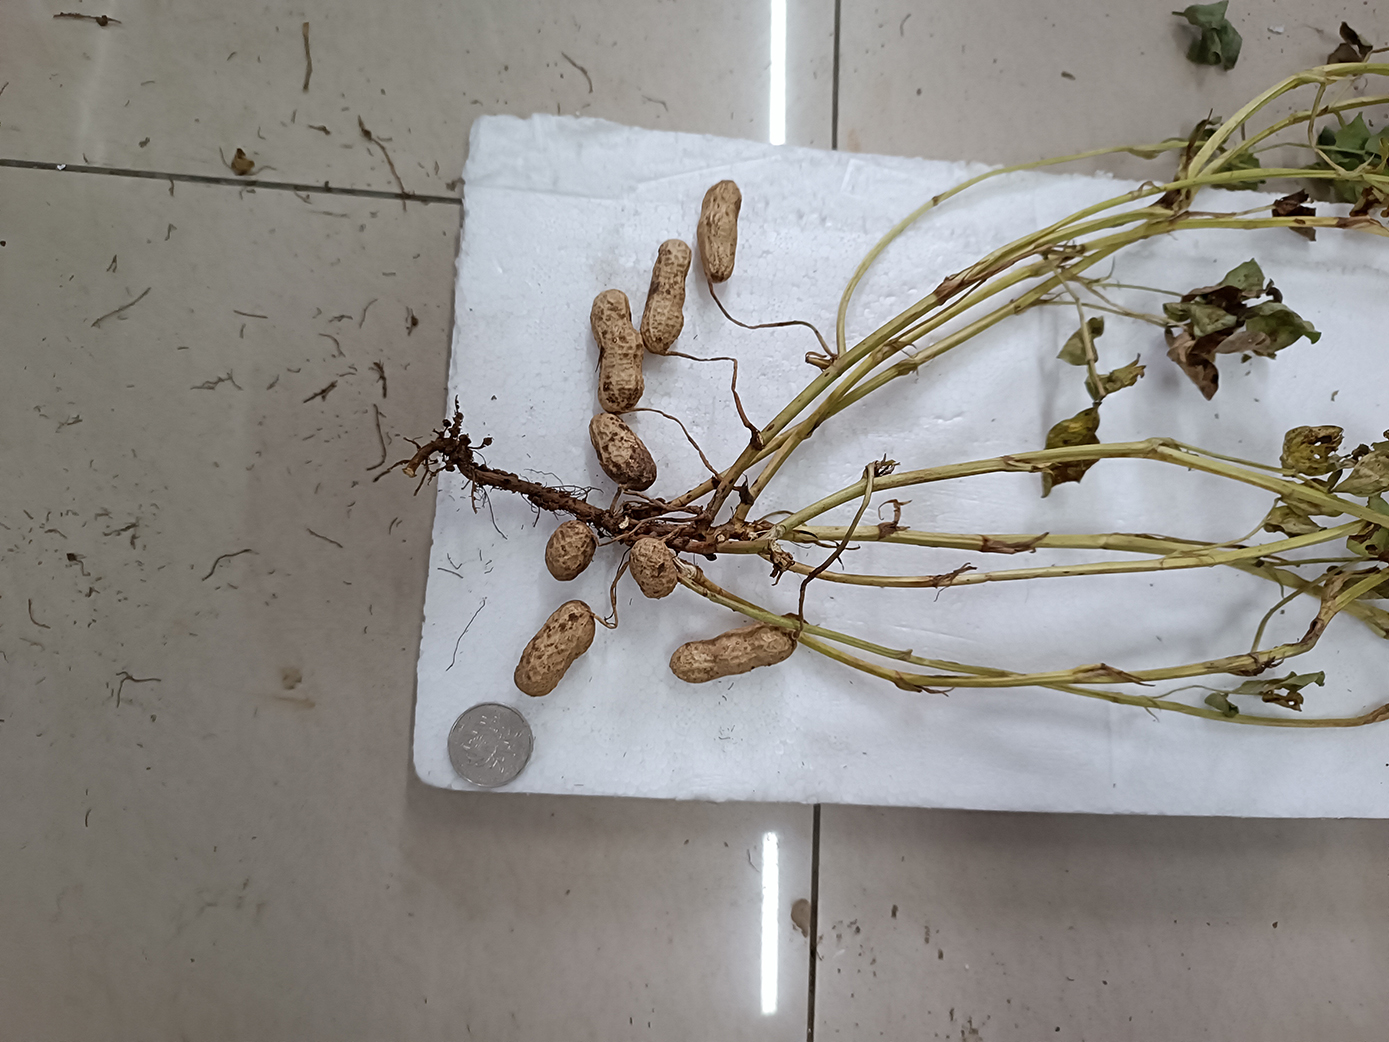h: (514, 599, 597, 697), (668, 620, 797, 681), (589, 285, 644, 412), (640, 241, 692, 354), (589, 412, 657, 493), (695, 178, 742, 282), (542, 521, 597, 581), (628, 539, 679, 599)
